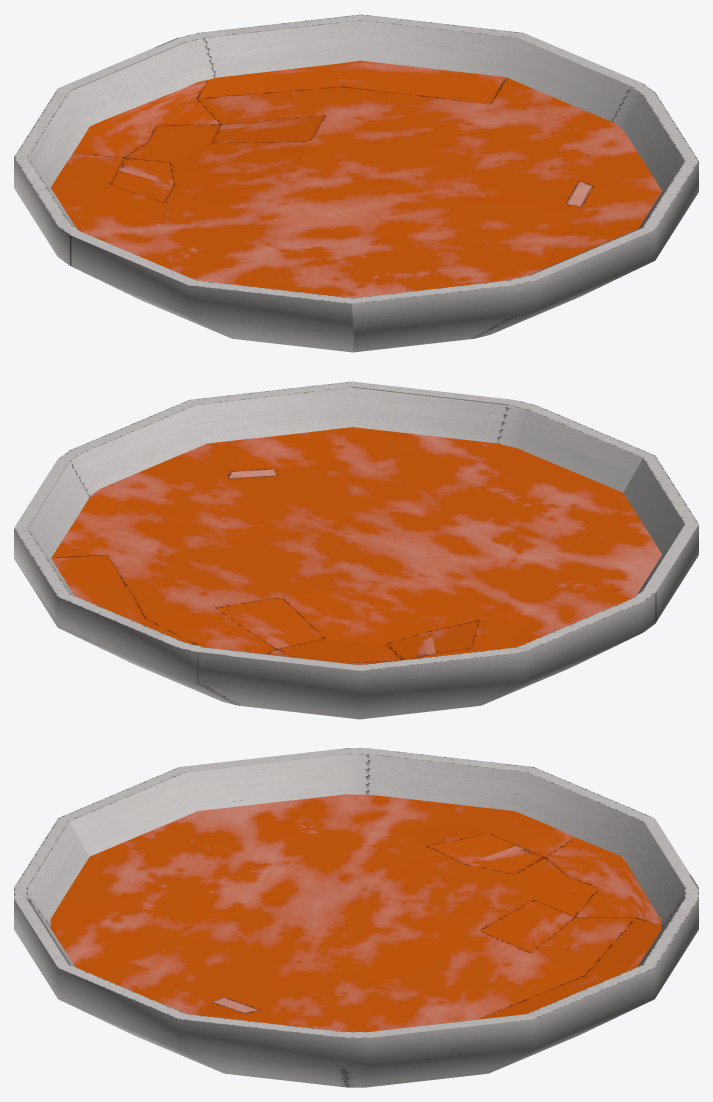
Rendered from gabus pucung.fbx.
3 renders of one model, top to bottom at view 1: azimuth 30°, elevation 25°; view 2: azimuth 150°, elevation 25°; view 3: azimuth 270°, elevation 25°, orthographic.
Visible parts, largest first — view 1: gabus pucung_Baked; view 2: gabus pucung_Baked; view 3: gabus pucung_Baked.
Boxes of the visible parts, x1,y1,x2,y2 form: gabus pucung_Baked: (14,14,698,352); gabus pucung_Baked: (14,381,698,719); gabus pucung_Baked: (14,748,698,1087).
Size of the model in its own units: 242 by 33.79 by 242.
Materials: 1 (1 with a texture image).
